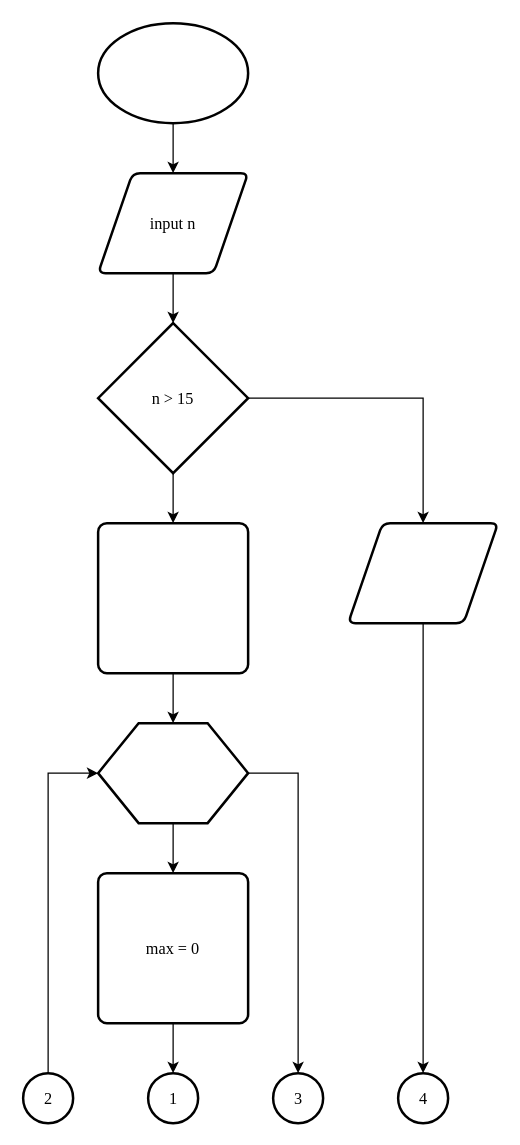
The diagram is 520 pixels wide and 1145 high, and some of its shapes have lost their labels. The shapes that lost their labels are listed below. From the top down, each one's centre as x and y in pixels, then its label:
point 172,72: start
point 422,572: "n > 15"
point 172,597: arr [ n ][n ] sum = 0 min = INT_MAX
point 172,772: i = 0 ; i < n ; i ++
